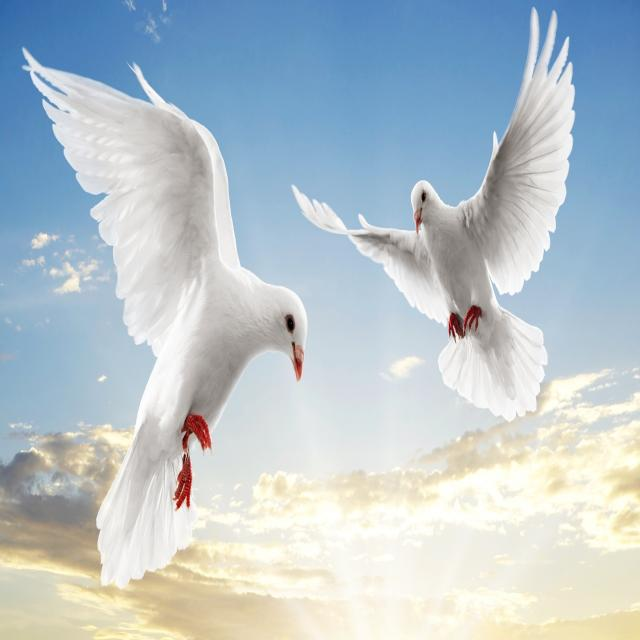bird: (17, 34, 312, 589), (302, 5, 577, 421)
